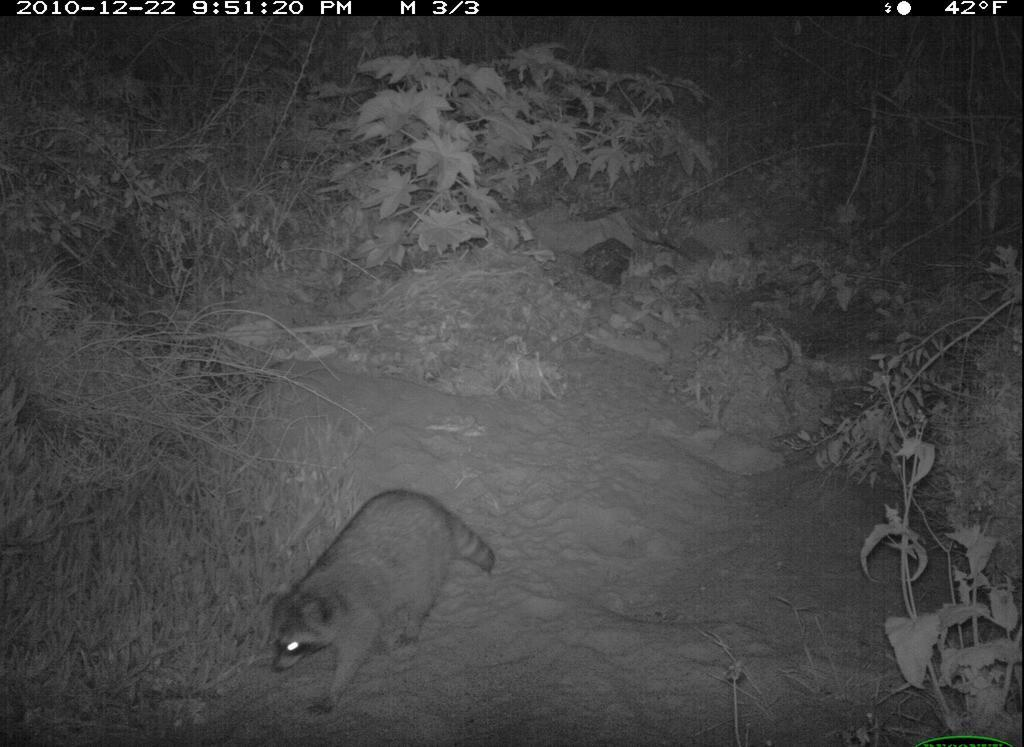raccoon: (254, 474, 502, 716)
